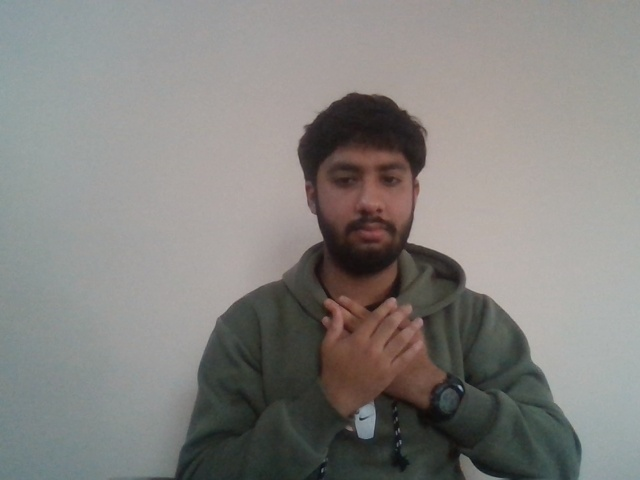Please: (308, 292, 450, 402)
